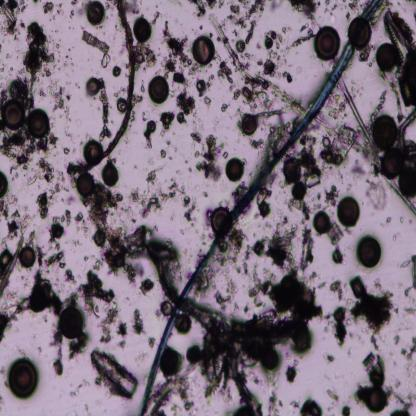Background material: (216, 239, 270, 315), (268, 267, 322, 325), (128, 164, 186, 218), (0, 127, 59, 170), (348, 288, 396, 336), (339, 78, 372, 144), (161, 20, 199, 77), (24, 20, 56, 83), (192, 129, 224, 188), (88, 179, 123, 228), (37, 160, 66, 218), (80, 268, 117, 313), (266, 220, 300, 268), (28, 271, 63, 317), (0, 233, 24, 297), (143, 374, 179, 416), (0, 292, 27, 343), (100, 223, 126, 274), (45, 76, 73, 122), (245, 77, 280, 113), (380, 67, 403, 121), (396, 41, 416, 103), (100, 298, 126, 345), (297, 145, 323, 189), (98, 74, 112, 143), (259, 123, 290, 154), (175, 372, 196, 416), (264, 370, 284, 416), (70, 210, 92, 250), (235, 0, 266, 27), (10, 78, 36, 108), (298, 227, 315, 272), (364, 178, 387, 211), (67, 333, 94, 361), (133, 37, 157, 68), (286, 24, 314, 50), (286, 195, 314, 221), (290, 0, 323, 22), (389, 390, 416, 416), (46, 214, 66, 249), (325, 91, 349, 119), (205, 377, 229, 404), (0, 75, 12, 128), (370, 87, 388, 122), (176, 88, 194, 122), (264, 49, 287, 74), (42, 247, 65, 272), (0, 195, 22, 220), (327, 278, 349, 303), (401, 107, 416, 143), (399, 139, 416, 170), (0, 220, 18, 249), (256, 189, 272, 221), (331, 322, 350, 348), (186, 110, 206, 133), (215, 60, 235, 83), (183, 192, 198, 222), (158, 110, 174, 138), (0, 19, 20, 41), (285, 353, 299, 384), (384, 376, 402, 400), (187, 0, 208, 20), (130, 308, 145, 336), (139, 275, 156, 298), (198, 267, 214, 291), (16, 215, 36, 234), (127, 263, 144, 285), (52, 350, 65, 378), (246, 14, 258, 44), (70, 377, 88, 397), (229, 228, 247, 248), (26, 167, 42, 189), (367, 150, 380, 177), (350, 158, 366, 179), (352, 381, 367, 403), (122, 205, 137, 226), (70, 0, 91, 15), (63, 290, 78, 311), (325, 186, 339, 208), (368, 370, 386, 387), (300, 129, 316, 148), (300, 396, 313, 416), (322, 163, 334, 184), (333, 245, 345, 266), (326, 388, 340, 406), (8, 0, 27, 13), (403, 297, 416, 316), (173, 72, 189, 87), (342, 0, 360, 13), (271, 30, 282, 51), (50, 328, 62, 347), (275, 72, 293, 84), (410, 254, 416, 290), (35, 246, 45, 267), (250, 137, 264, 152), (359, 45, 372, 61), (100, 52, 112, 69), (407, 338, 416, 360), (221, 13, 236, 26), (66, 270, 78, 286), (268, 0, 284, 12), (322, 314, 332, 333), (321, 350, 334, 364), (248, 370, 260, 385), (63, 194, 78, 206), (390, 298, 400, 316), (350, 77, 358, 98), (242, 50, 251, 68), (56, 1, 65, 18), (60, 209, 70, 224), (246, 101, 258, 113), (144, 131, 152, 149), (132, 92, 141, 108), (232, 87, 243, 100), (140, 110, 151, 123), (93, 257, 104, 270), (114, 86, 127, 97), (328, 1, 338, 15), (64, 126, 74, 140), (207, 72, 215, 89), (231, 2, 242, 14), (43, 0, 52, 14), (371, 336, 380, 350), (147, 335, 158, 346), (37, 87, 47, 99), (404, 286, 414, 298), (159, 149, 169, 161), (373, 278, 382, 291), (335, 171, 344, 184), (204, 96, 212, 110), (14, 46, 22, 60), (203, 0, 217, 8), (290, 399, 300, 410), (392, 332, 400, 345), (401, 258, 411, 268), (219, 101, 228, 112), (29, 232, 36, 246), (147, 153, 154, 166), (344, 227, 353, 237), (317, 280, 326, 290), (216, 0, 226, 9), (233, 119, 241, 130), (54, 268, 58, 290), (0, 0, 6, 14), (343, 245, 355, 252), (152, 11, 158, 25), (164, 138, 173, 147), (278, 25, 288, 33), (212, 115, 220, 125), (384, 214, 392, 224), (232, 110, 240, 120), (62, 146, 71, 154), (400, 347, 408, 356), (346, 345, 352, 356), (0, 395, 5, 408), (310, 272, 318, 280), (58, 262, 66, 270), (257, 59, 264, 68), (357, 333, 363, 343), (349, 330, 355, 340), (346, 182, 352, 192), (232, 28, 238, 38), (193, 184, 200, 192), (54, 42, 61, 50), (0, 365, 6, 374), (202, 190, 209, 197), (317, 202, 324, 209), (78, 24, 84, 32), (74, 82, 80, 90), (187, 166, 193, 174), (256, 40, 262, 48), (326, 404, 334, 410), (265, 221, 271, 229), (36, 346, 42, 354), (169, 89, 175, 97), (368, 58, 376, 64), (69, 10, 75, 18), (222, 150, 228, 158), (391, 233, 397, 241), (140, 80, 144, 92), (192, 217, 197, 226), (178, 228, 184, 235), (6, 52, 12, 59), (10, 176, 16, 183), (345, 318, 351, 325), (120, 342, 128, 347), (317, 192, 322, 200), (198, 22, 203, 30), (56, 57, 62, 63), (198, 91, 204, 97), (62, 62, 68, 68), (86, 407, 90, 415), (0, 66, 4, 74), (188, 180, 192, 188), (15, 172, 20, 178), (114, 24, 119, 30), (113, 55, 118, 61), (202, 242, 208, 247), (202, 233, 206, 240), (400, 216, 404, 223), (83, 256, 88, 261), (10, 66, 14, 72), (51, 12, 54, 20), (408, 218, 412, 224), (209, 32, 213, 38), (55, 28, 58, 34), (185, 158, 188, 164), (394, 360, 397, 366), (195, 230, 199, 234), (70, 62, 74, 66), (99, 25, 103, 29), (68, 48, 71, 53), (0, 45, 2, 52), (68, 26, 71, 30), (31, 0, 36, 2), (170, 155, 172, 160), (72, 45, 74, 49), (66, 55, 68, 59), (72, 26, 74, 30), (70, 57, 72, 60)
Cellulose filter fibre: (126, 230, 296, 353), (69, 1, 133, 177), (207, 10, 307, 115), (314, 114, 372, 159), (226, 344, 261, 416)
Cotton: (141, 0, 384, 416)
Diatom: (86, 349, 139, 399), (7, 355, 39, 399), (386, 10, 413, 59), (312, 25, 342, 62), (56, 302, 85, 340), (373, 115, 401, 151), (335, 193, 362, 229), (356, 235, 382, 269), (191, 35, 216, 66), (27, 106, 50, 138), (147, 74, 170, 105), (349, 17, 372, 48), (376, 42, 398, 72), (3, 99, 24, 130), (209, 208, 232, 236), (82, 30, 109, 53), (366, 386, 386, 414), (383, 147, 403, 175), (398, 167, 416, 198), (225, 157, 246, 183), (161, 350, 181, 377), (83, 140, 103, 166), (86, 1, 106, 27), (76, 172, 96, 197), (311, 211, 331, 235), (293, 327, 311, 353), (133, 19, 152, 43), (101, 162, 120, 186), (350, 275, 367, 301), (362, 352, 382, 374), (284, 158, 299, 183), (263, 350, 280, 372), (242, 114, 258, 136), (214, 349, 225, 381), (20, 246, 36, 268), (327, 224, 344, 244), (176, 313, 191, 334), (186, 345, 202, 363), (86, 76, 100, 96), (205, 355, 215, 383), (0, 168, 9, 198), (292, 182, 306, 200), (4, 5, 16, 23), (94, 230, 106, 248), (308, 401, 322, 416), (116, 97, 128, 113), (333, 308, 345, 322), (161, 301, 172, 316), (264, 36, 274, 50), (241, 87, 252, 99), (112, 64, 122, 77), (197, 80, 207, 92), (146, 120, 156, 132), (333, 155, 343, 166), (236, 40, 245, 51), (136, 52, 144, 64), (342, 405, 350, 416), (325, 151, 333, 162), (323, 138, 328, 147)
